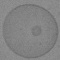small: (31, 25, 41, 36)
